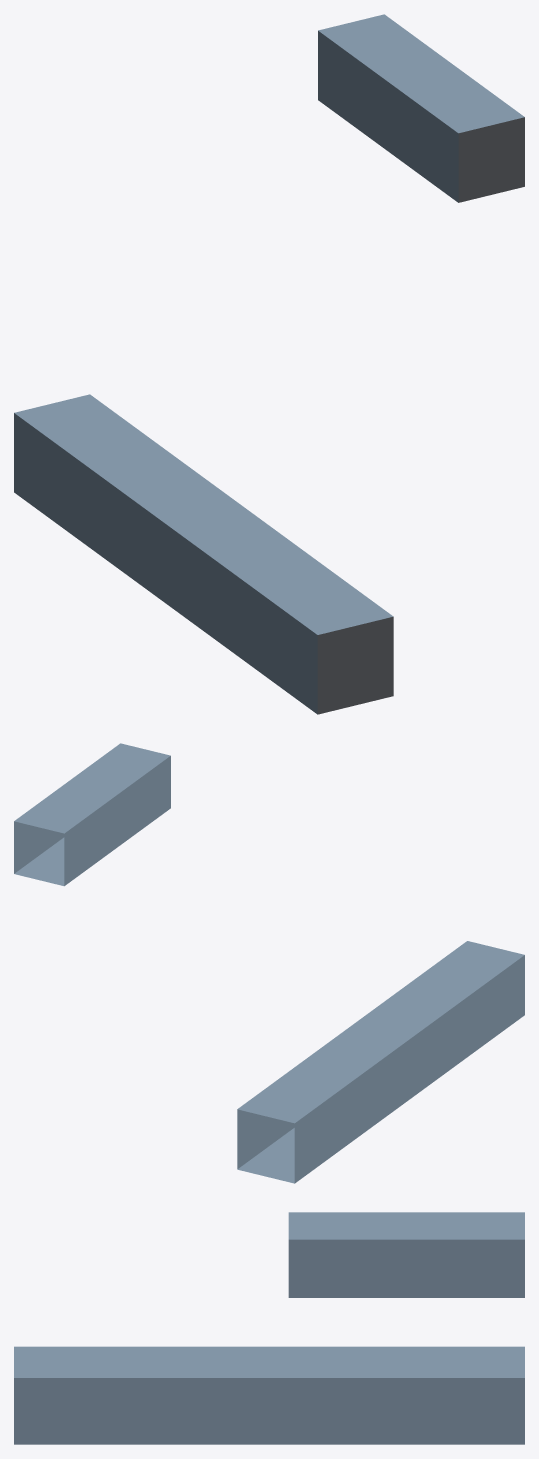
File: island_bldg_11_06.obj
3 renders of one model, top to bottom at view 1: azimuth 30°, elevation 25°; view 2: azimuth 150°, elevation 25°; view 3: azimuth 270°, elevation 25°, orthographic. The views are drawn at different scales.
Visible parts, largest first — view 1: island_bldg_11_06; view 2: island_bldg_11_06; view 3: island_bldg_11_06.
Boxes of the visible parts, box(x1,y1,x2,y2) form: island_bldg_11_06: box(14, 14, 524, 714); island_bldg_11_06: box(14, 743, 524, 1183); island_bldg_11_06: box(14, 1212, 524, 1444).
Bounding box in the file's own units: 156 × 156 × 221.
